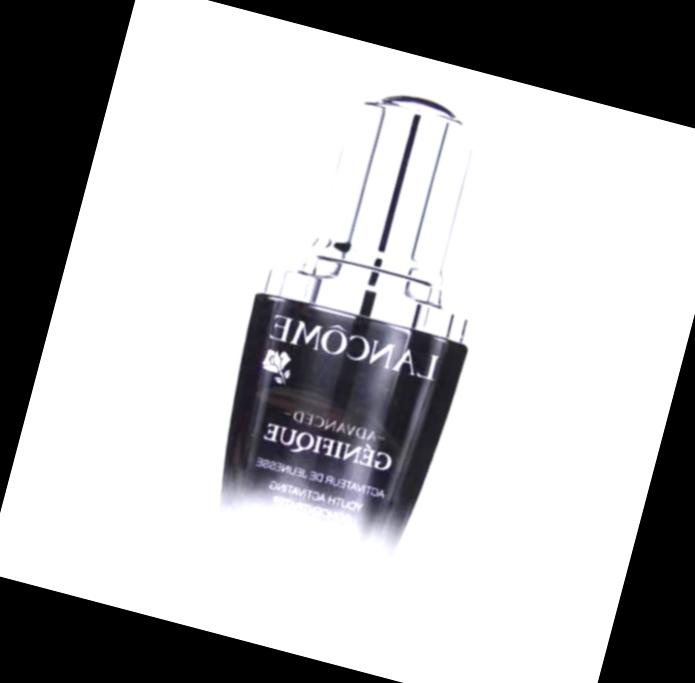cosmetic: (175, 66, 526, 642)
